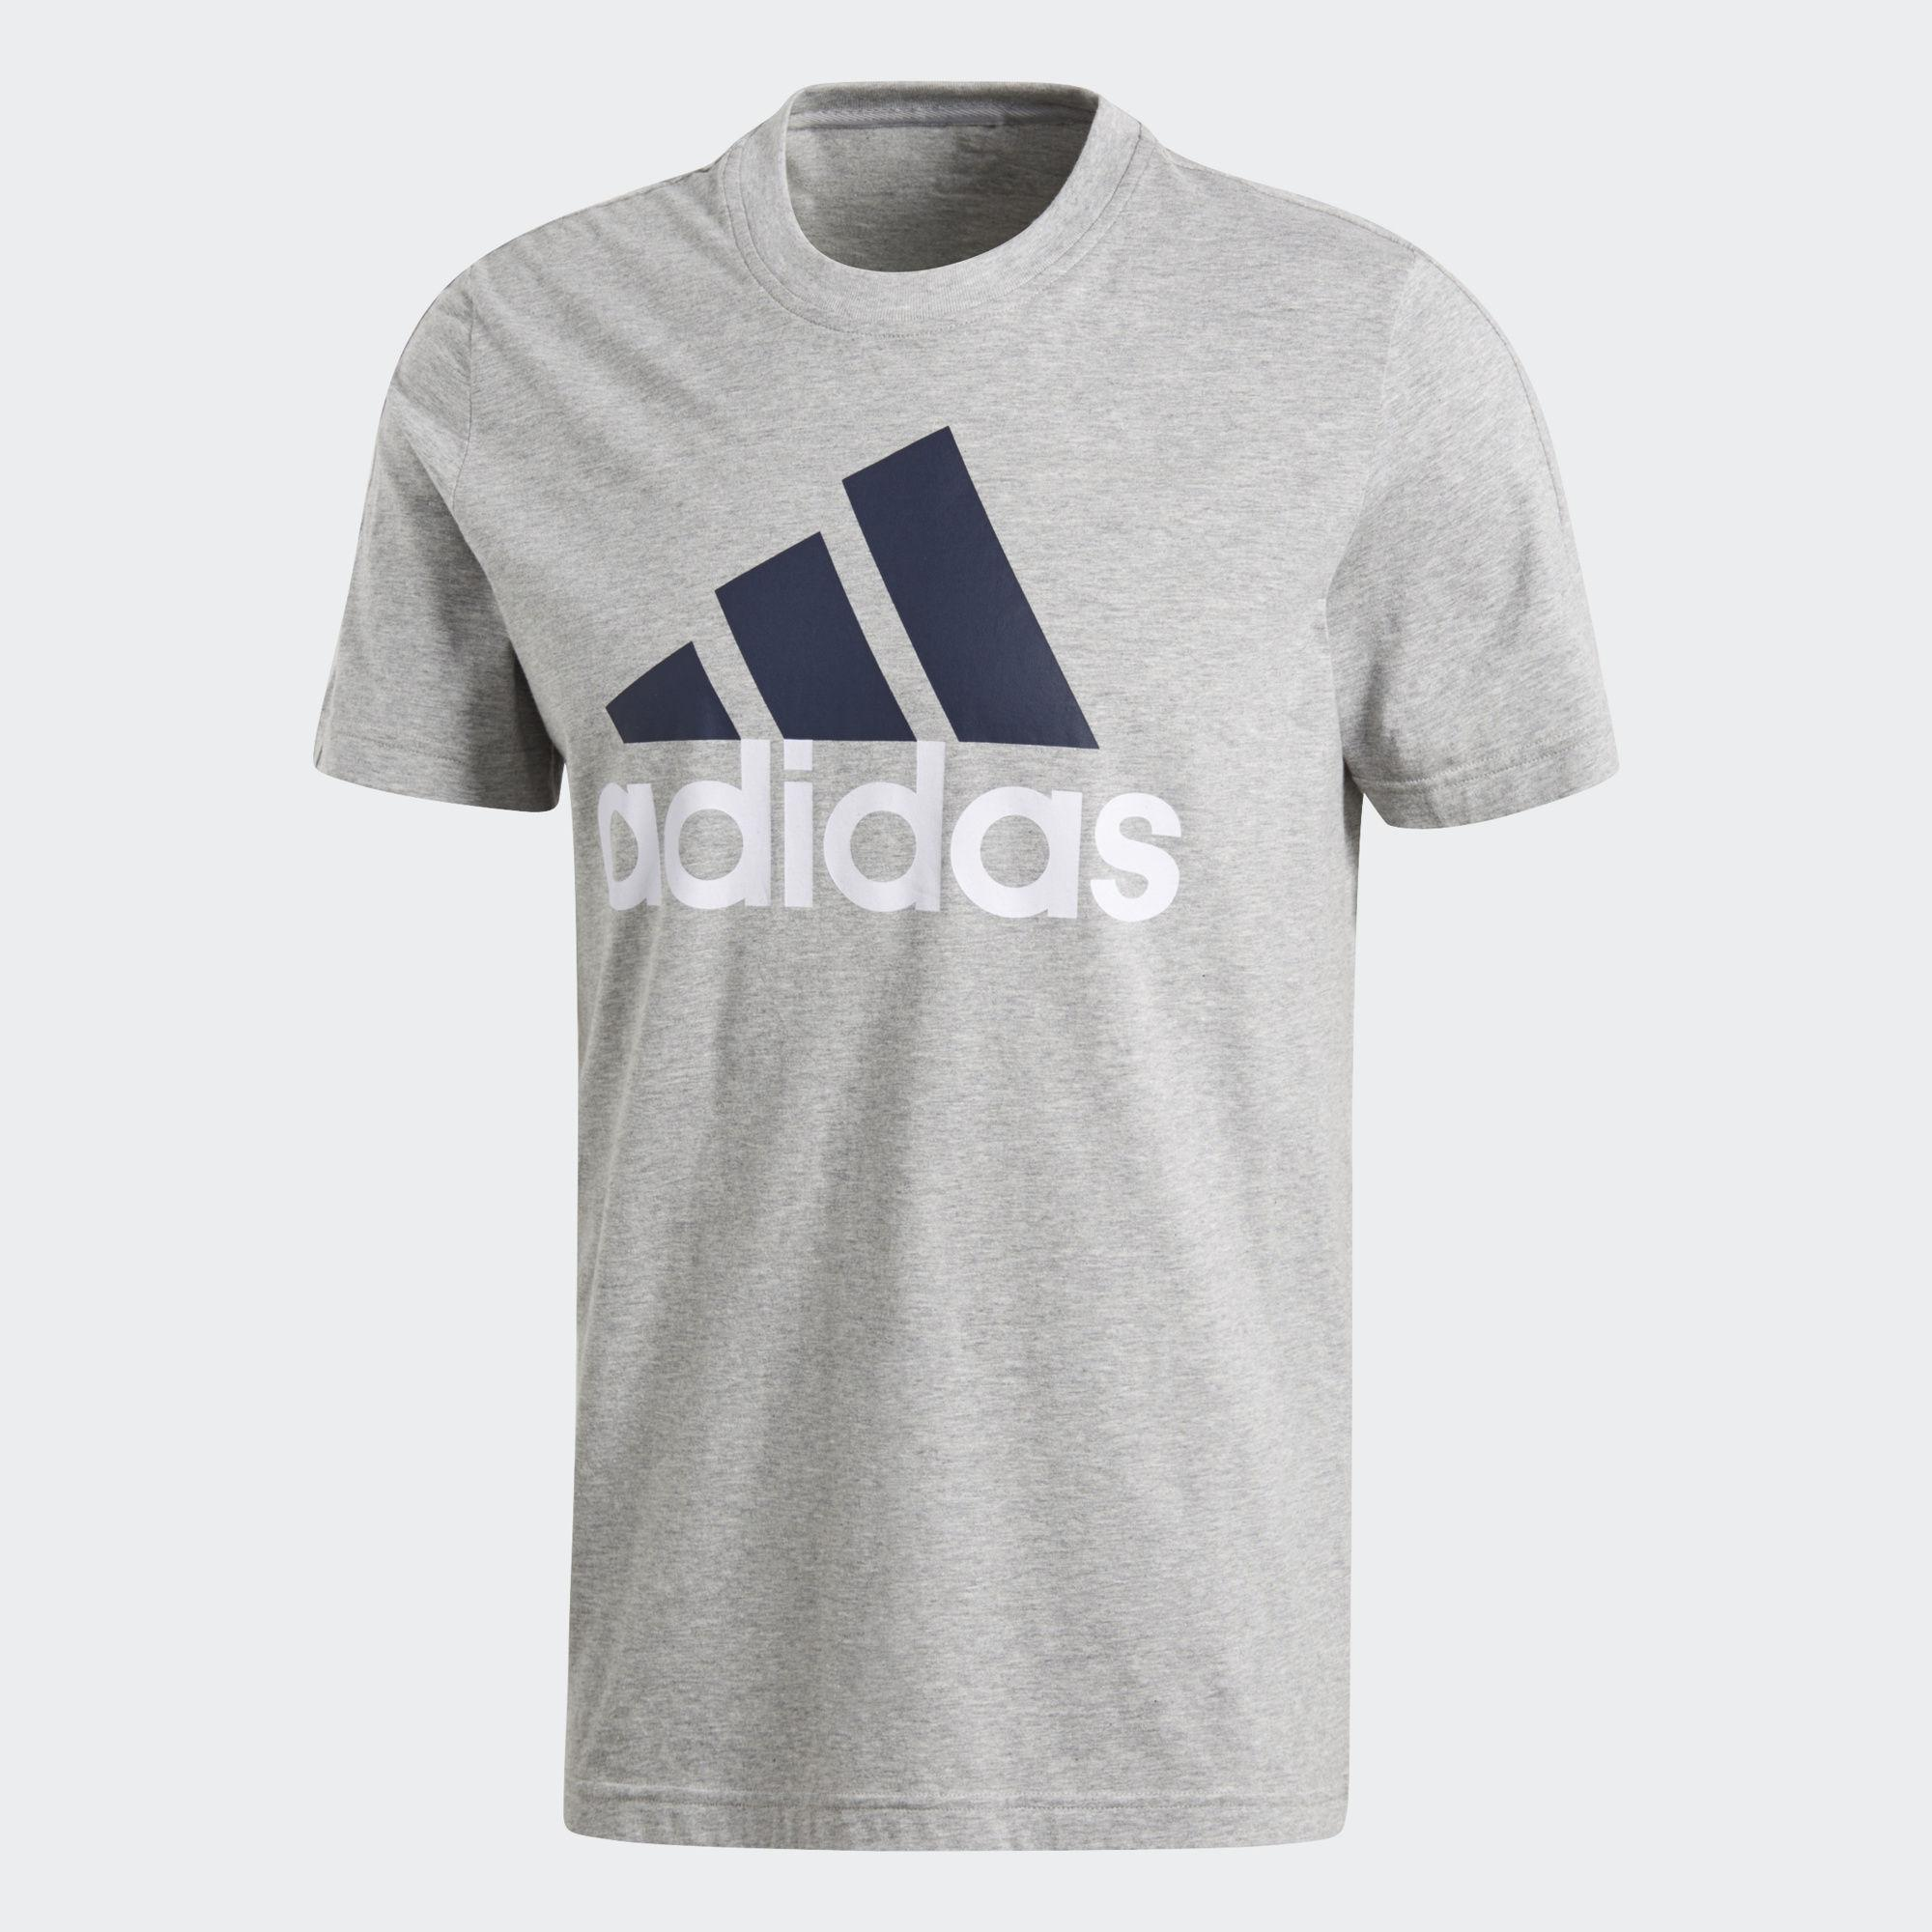teeshirt: (288, 46, 1644, 1877)
